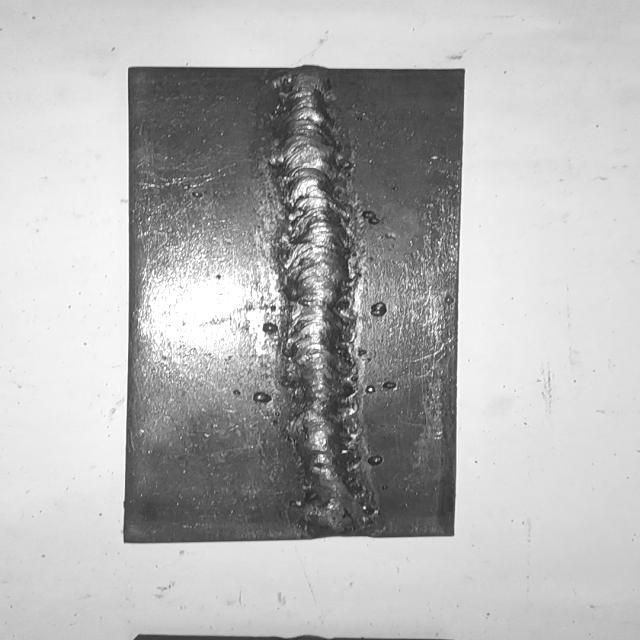Welding Line: (272, 69, 362, 530)
Workpiece: (123, 62, 461, 542)
